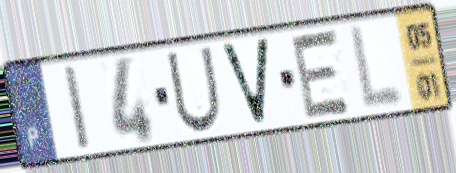4: (110, 54, 157, 147)
E: (288, 25, 354, 122)
I: (60, 62, 94, 154)
L: (348, 22, 407, 114)
U: (164, 44, 224, 136)
V: (216, 35, 273, 129)
